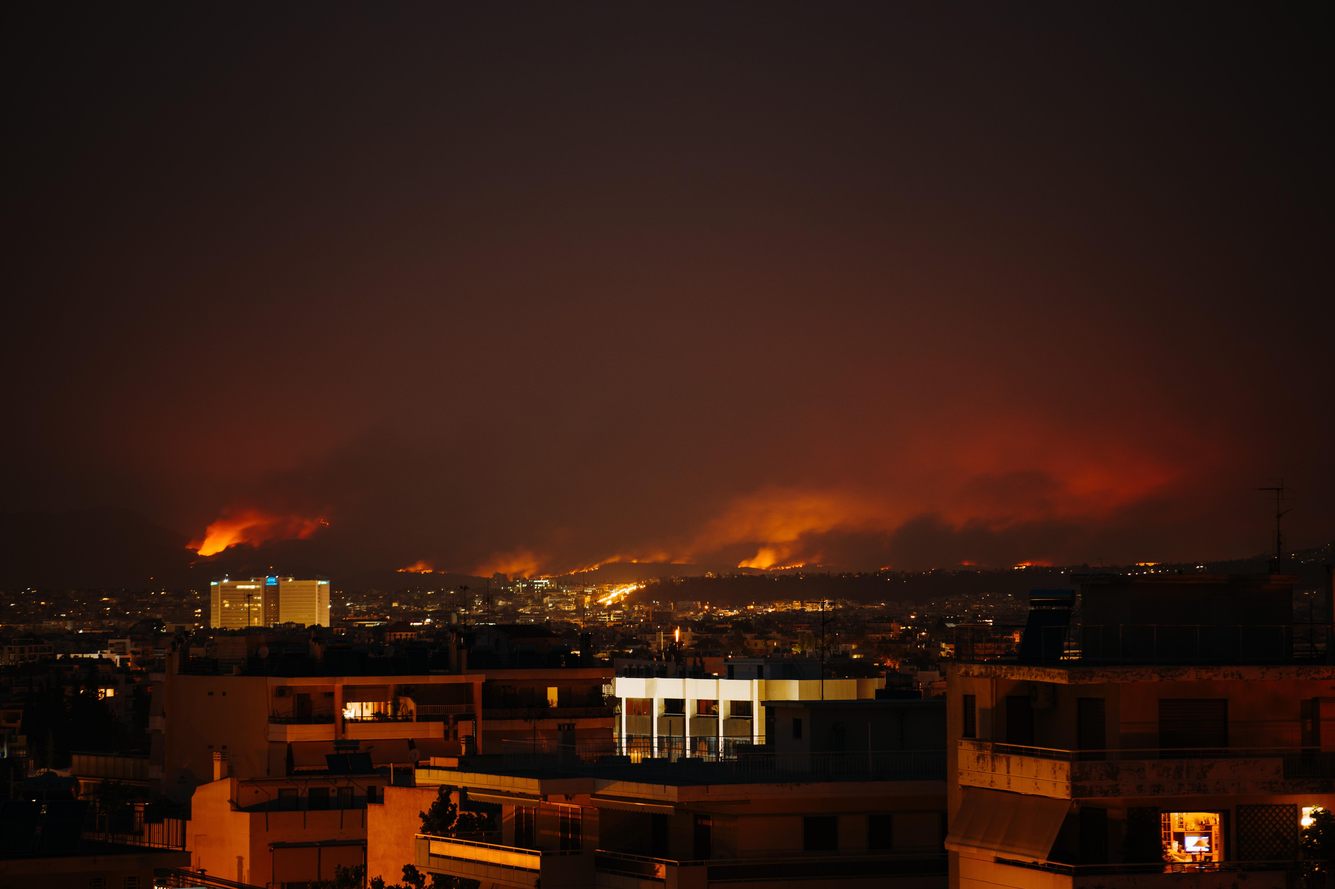fire: (181, 488, 336, 569), (735, 548, 810, 575), (541, 550, 609, 576), (391, 555, 436, 579)
